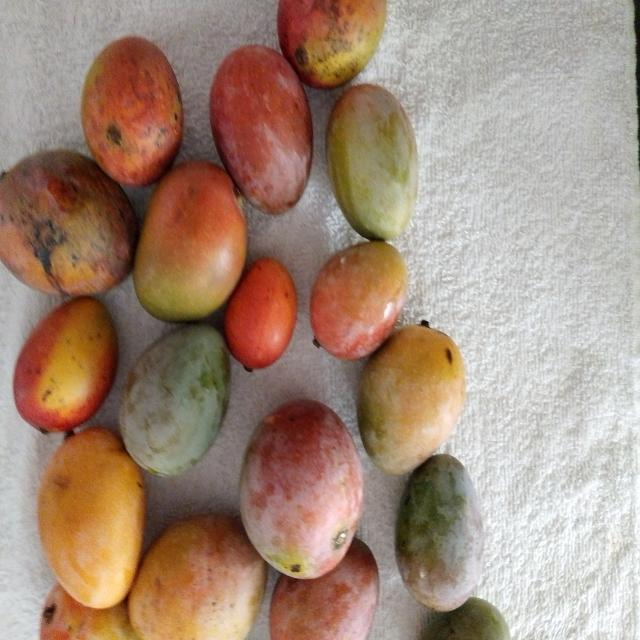mango: (236, 404, 364, 578), (352, 318, 472, 478), (0, 154, 138, 293), (39, 424, 141, 611), (121, 321, 235, 483), (210, 44, 315, 217), (135, 163, 245, 325), (132, 511, 270, 640), (79, 34, 184, 181), (324, 82, 421, 240), (395, 449, 486, 613), (308, 237, 409, 361)
